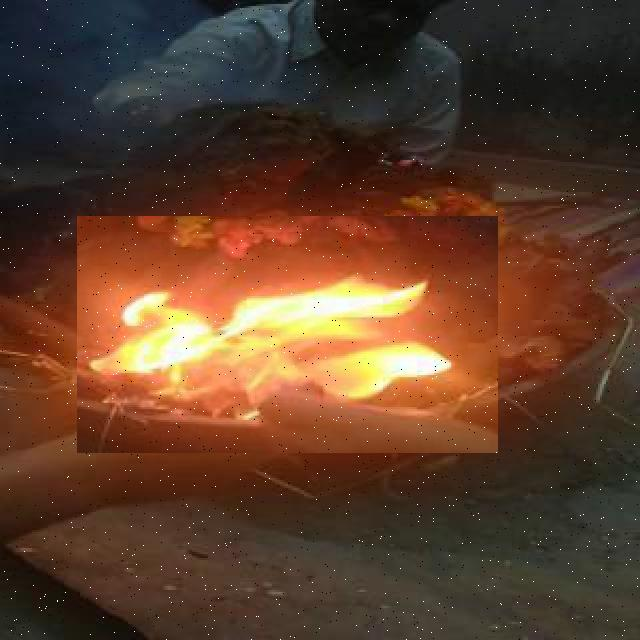fire: (77, 216, 498, 453)
